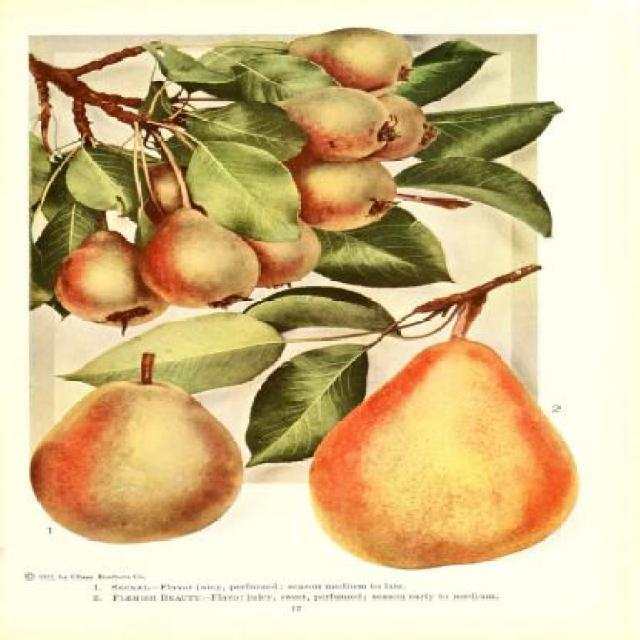Pear: (52, 27, 440, 336), (306, 338, 576, 568), (28, 378, 240, 542)
